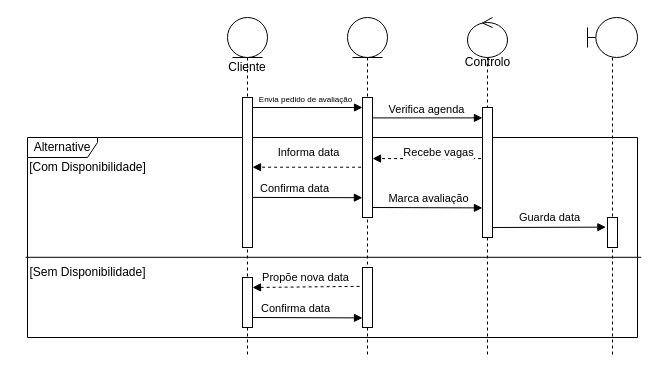
Image size: 660x376. Some labels were removed from this diagram. The centre of each missing label's shape, as x and y in pixels:
Base de Dados: point 612,187
Instrutor: point 367,187
